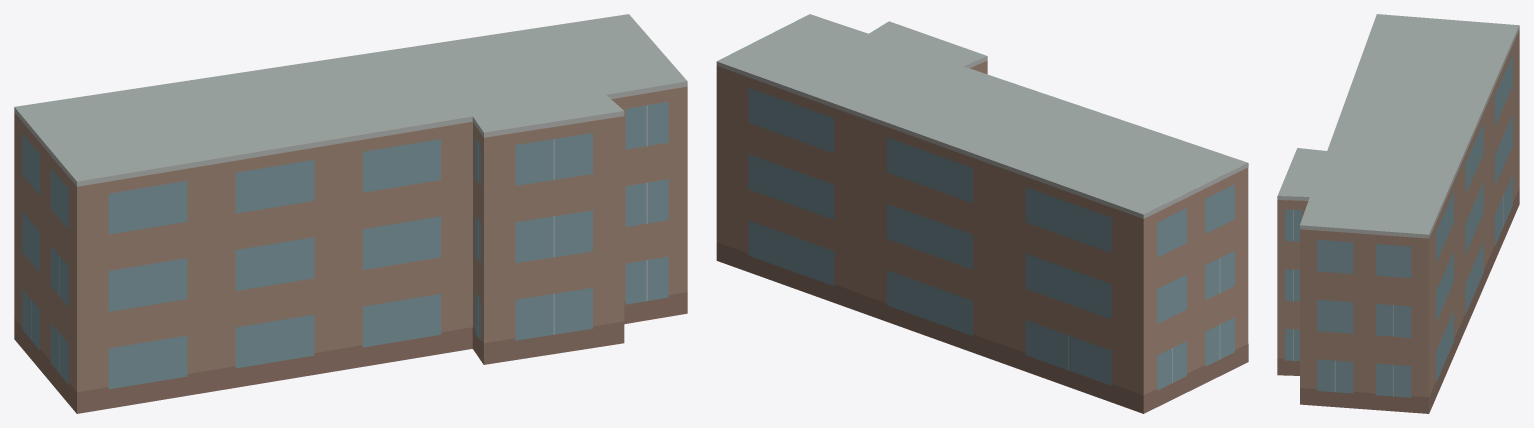
File: survey-upis-32958626.glb
The picture shows the model from 3 angles, left to right: view 1: azimuth 30°, elevation 25°; view 2: azimuth 150°, elevation 25°; view 3: azimuth 270°, elevation 25°; orthographic projection. The views are drawn at different scales.
Visible parts, largest first — view 1: survey-upis-32958626.tmp; view 2: survey-upis-32958626.tmp; view 3: survey-upis-32958626.tmp.
Part boxes in pixels (left/top/right/bottom): survey-upis-32958626.tmp: left=14, top=14, right=687, bottom=413; survey-upis-32958626.tmp: left=716, top=14, right=1248, bottom=413; survey-upis-32958626.tmp: left=1277, top=14, right=1519, bottom=413.
Bounding box in the file's own units: 29.05 × 11 × 13.47.
